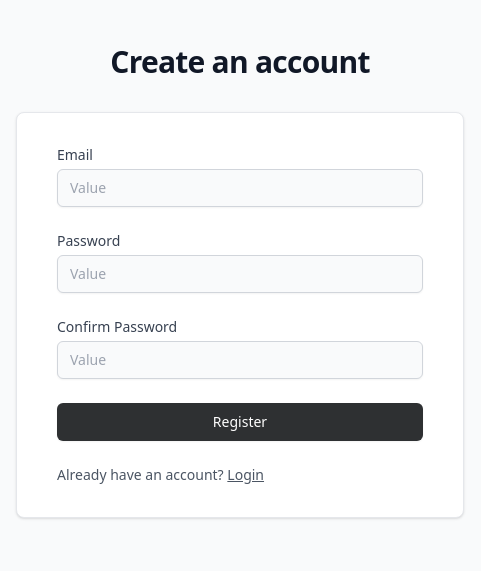
Scenario: Register Page › handles registration failure
The image size is (481, 571).
Type "existing@example.com" into the field labelled "Email".
click(240, 188); type("existing@example.com")  # box [57, 169, 423, 207]
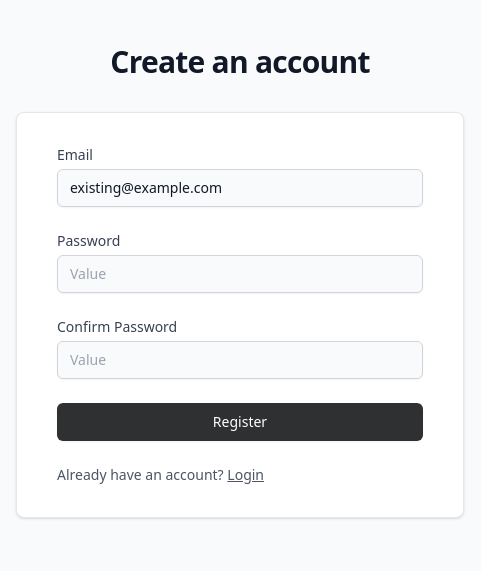
Type "password123" into the password field labelled "Password".
click(240, 274); type("password123")  # box [57, 255, 423, 293]
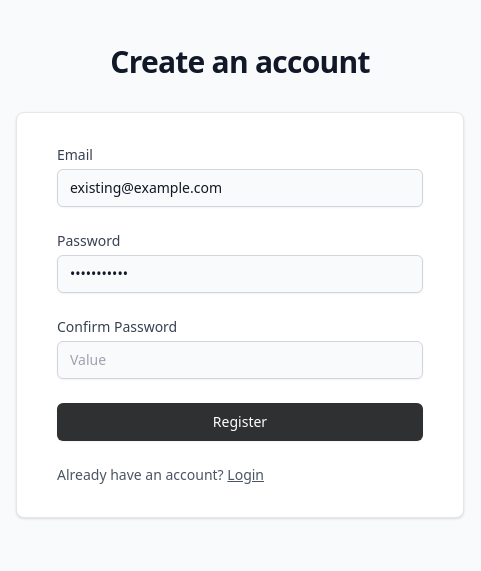
Type "password123" into the password field labelled "Confirm Password".
click(240, 360); type("password123")  # box [57, 341, 423, 379]
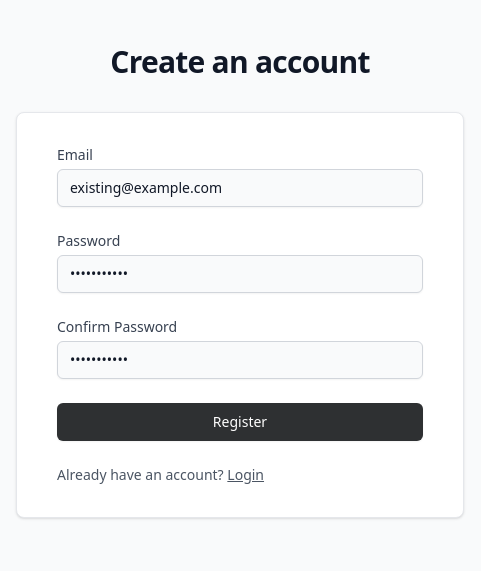
Click the button "Register".
click(240, 422)  # box [57, 403, 423, 441]
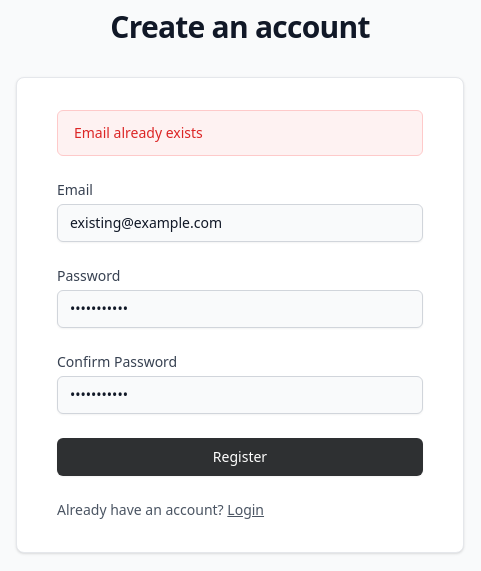
Expected: the text "Email already exists" is shown, [57, 110, 423, 156]
